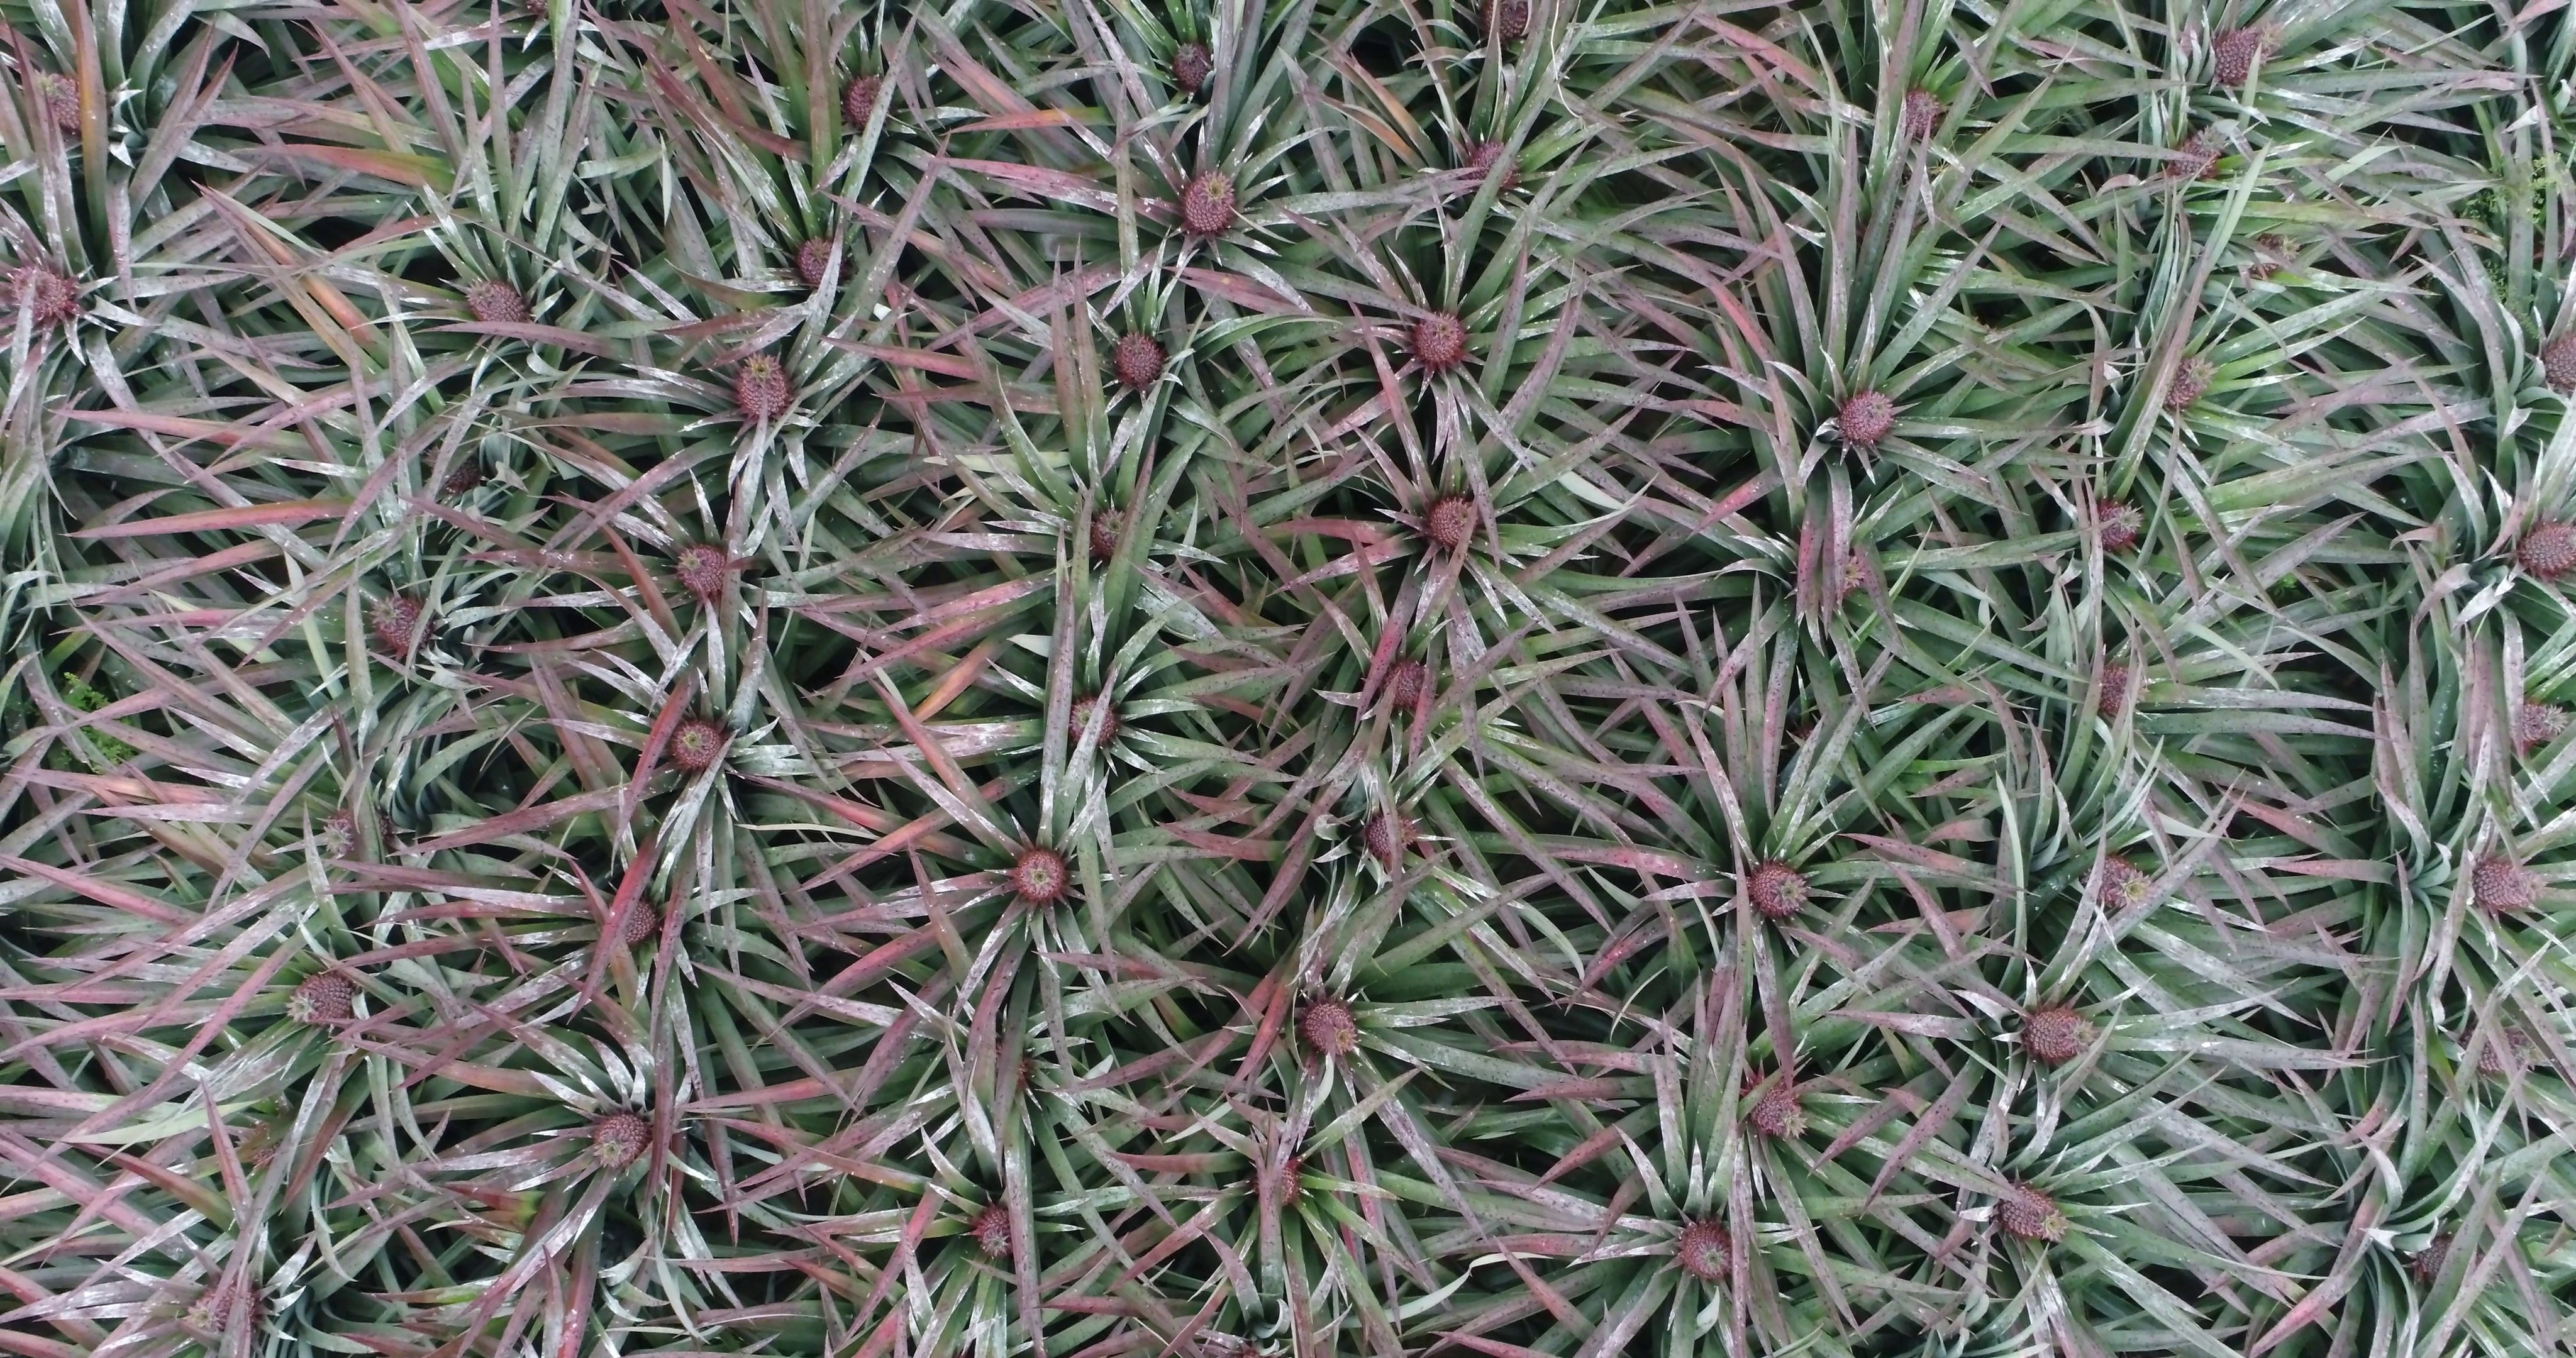pa: (186, 1281, 257, 1338), (34, 73, 101, 131), (12, 262, 72, 322), (2464, 1029, 2540, 1075), (2472, 860, 2545, 908), (2004, 1182, 2065, 1239), (324, 809, 392, 859), (2027, 1009, 2096, 1058), (285, 976, 354, 1024), (1182, 170, 1235, 230), (2215, 26, 2276, 77), (373, 596, 429, 651), (1303, 1004, 1361, 1056), (738, 354, 789, 414), (1683, 1218, 1734, 1278), (2414, 1235, 2481, 1280), (1750, 862, 1806, 913), (463, 278, 523, 325), (596, 1114, 649, 1167), (1753, 1082, 1804, 1136), (426, 443, 480, 492), (1012, 847, 1061, 900), (2096, 859, 2152, 905), (2518, 525, 2574, 571), (678, 544, 729, 593), (1840, 392, 1889, 443), (1116, 331, 1162, 385), (671, 719, 721, 768), (2171, 129, 2220, 177), (1416, 312, 1462, 361), (845, 75, 888, 128), (1070, 699, 1116, 746), (2162, 361, 2211, 406), (1433, 496, 1475, 547), (1470, 141, 1516, 187), (801, 235, 843, 283), (1370, 811, 1416, 854), (1172, 39, 1211, 89), (978, 1206, 1017, 1256), (1385, 663, 1429, 704), (1257, 1164, 1300, 1205), (610, 903, 654, 941), (1094, 509, 1130, 555), (1484, 2, 1532, 36), (2523, 700, 2562, 741), (2545, 332, 2574, 385), (2097, 506, 2140, 542), (2252, 237, 2297, 271), (2102, 670, 2140, 709), (1910, 92, 1939, 136)
